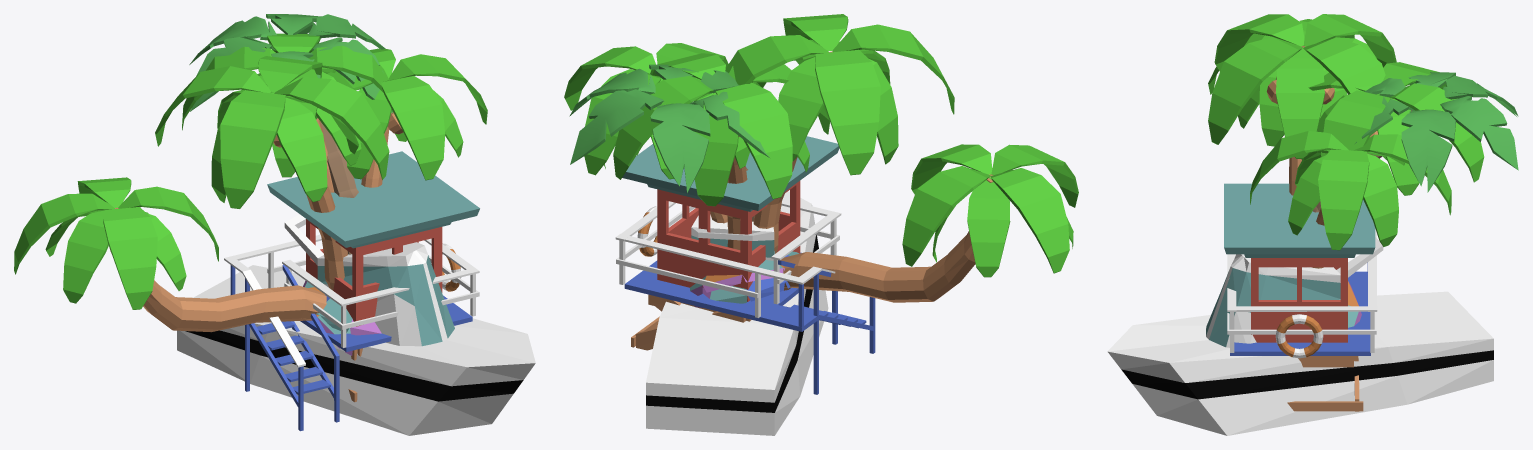
The model's file is beach-pack.glb.
The picture shows the model from 3 angles, left to right: view 1: azimuth 30°, elevation 25°; view 2: azimuth 150°, elevation 25°; view 3: azimuth 270°, elevation 25°; orthographic projection. The views are drawn at different scales.
Parts seen in each view (by area): view 1: Beach_Yacht_part (×3), Beach_Lifeguard_Tower_part (×4), Beach_Palm_5_part (×2), Beach_Palm_4_part (×2), Beach_Palm_1_part (×2), Beach_Palm_6_part (×2), Beach_Palm_2_part; view 2: Beach_Lifeguard_Tower_part (×5), Beach_Palm_5_part (×2), Beach_Yacht_part (×2), Beach_Palm_4_part (×2), Beach_Palm_2_part (×2), Beach_Palm_6_part, Beach_Palm_1_part; view 3: Beach_Yacht_part (×3), Beach_Lifeguard_Tower_part (×6), Beach_Palm_4_part (×2), Beach_Palm_1_part, Beach_Palm_6_part, Beach_Palm_2_part, Beach_Palm_5_part.
Part boxes in pixels (left/top/right/bottom): Beach_Yacht_part (×3): left=177, top=214, right=535, bottom=435; Beach_Lifeguard_Tower_part (×4): left=224, top=151, right=479, bottom=431; Beach_Palm_5_part (×2): left=14, top=177, right=326, bottom=332; Beach_Palm_4_part (×2): left=155, top=56, right=389, bottom=290; Beach_Palm_1_part (×2): left=315, top=48, right=487, bottom=187; Beach_Palm_6_part (×2): left=189, top=14, right=392, bottom=254; Beach_Palm_2_part: left=182, top=33, right=389, bottom=177; Beach_Lifeguard_Tower_part (×5): left=615, top=136, right=875, bottom=394; Beach_Palm_5_part (×2): left=781, top=144, right=1078, bottom=302; Beach_Yacht_part (×2): left=646, top=191, right=828, bottom=435; Beach_Palm_4_part (×2): left=713, top=14, right=954, bottom=253; Beach_Palm_2_part (×2): left=613, top=53, right=829, bottom=249; Beach_Palm_6_part: left=569, top=64, right=769, bottom=192; Beach_Palm_1_part: left=564, top=43, right=749, bottom=179; Beach_Yacht_part (×3): left=1107, top=237, right=1493, bottom=435; Beach_Lifeguard_Tower_part (×6): left=1224, top=183, right=1377, bottom=411; Beach_Palm_4_part (×2): left=1208, top=14, right=1396, bottom=195; Beach_Palm_1_part: left=1250, top=129, right=1451, bottom=250; Beach_Palm_6_part: left=1355, top=72, right=1518, bottom=192; Beach_Palm_2_part: left=1301, top=62, right=1484, bottom=195; Beach_Palm_5_part: left=1208, top=19, right=1376, bottom=146.
Bounding box in the file's own units: 12.27 × 8 × 9.57.
